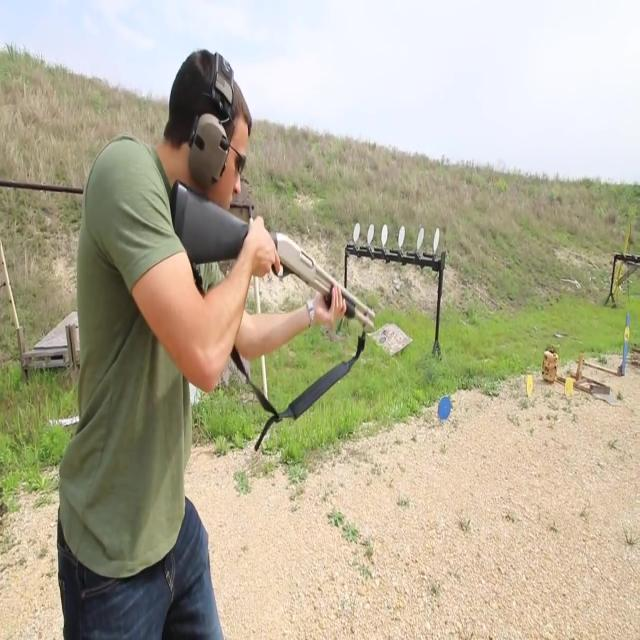Weapon: (160, 150, 414, 415)
